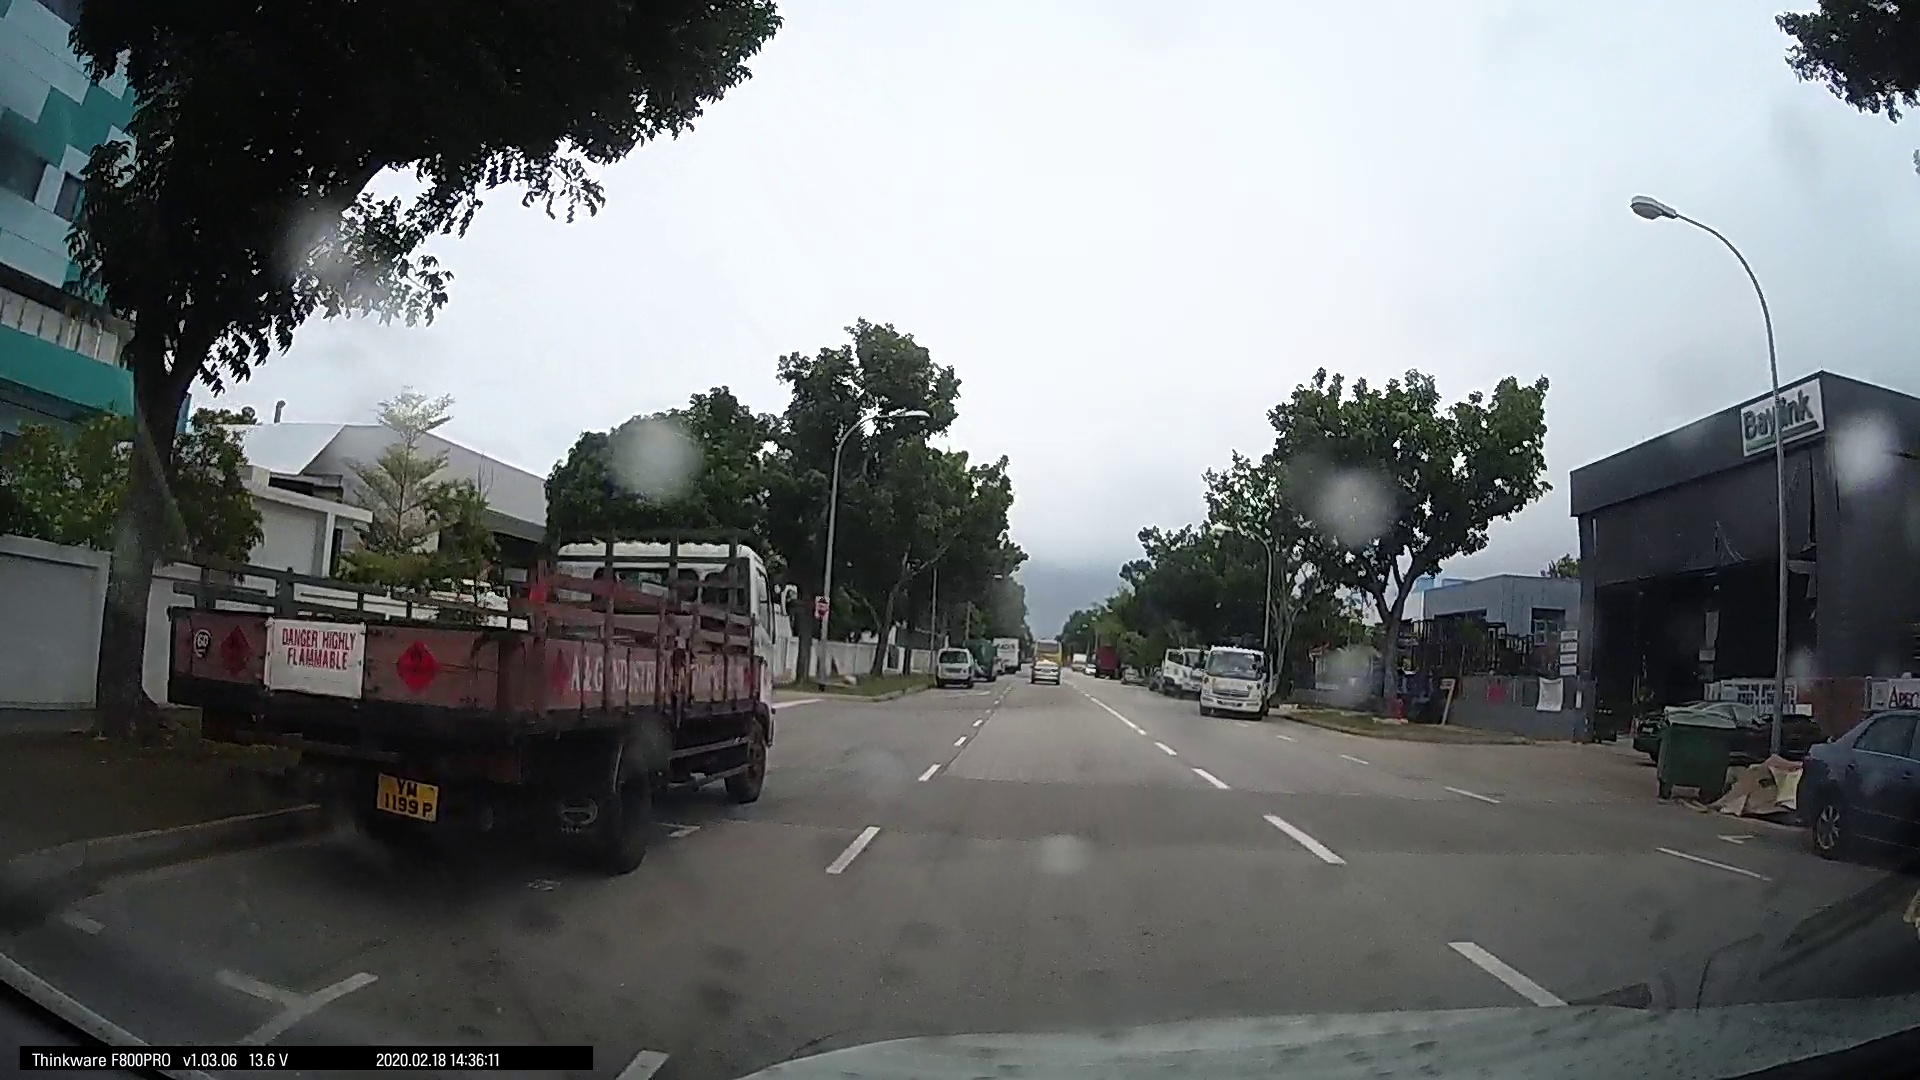Heavy Vehicle: (166, 512, 800, 853)
Light Vehicle: (1793, 702, 1917, 864), (1191, 642, 1269, 719), (928, 640, 981, 688), (1153, 649, 1200, 696), (1023, 645, 1060, 682)
